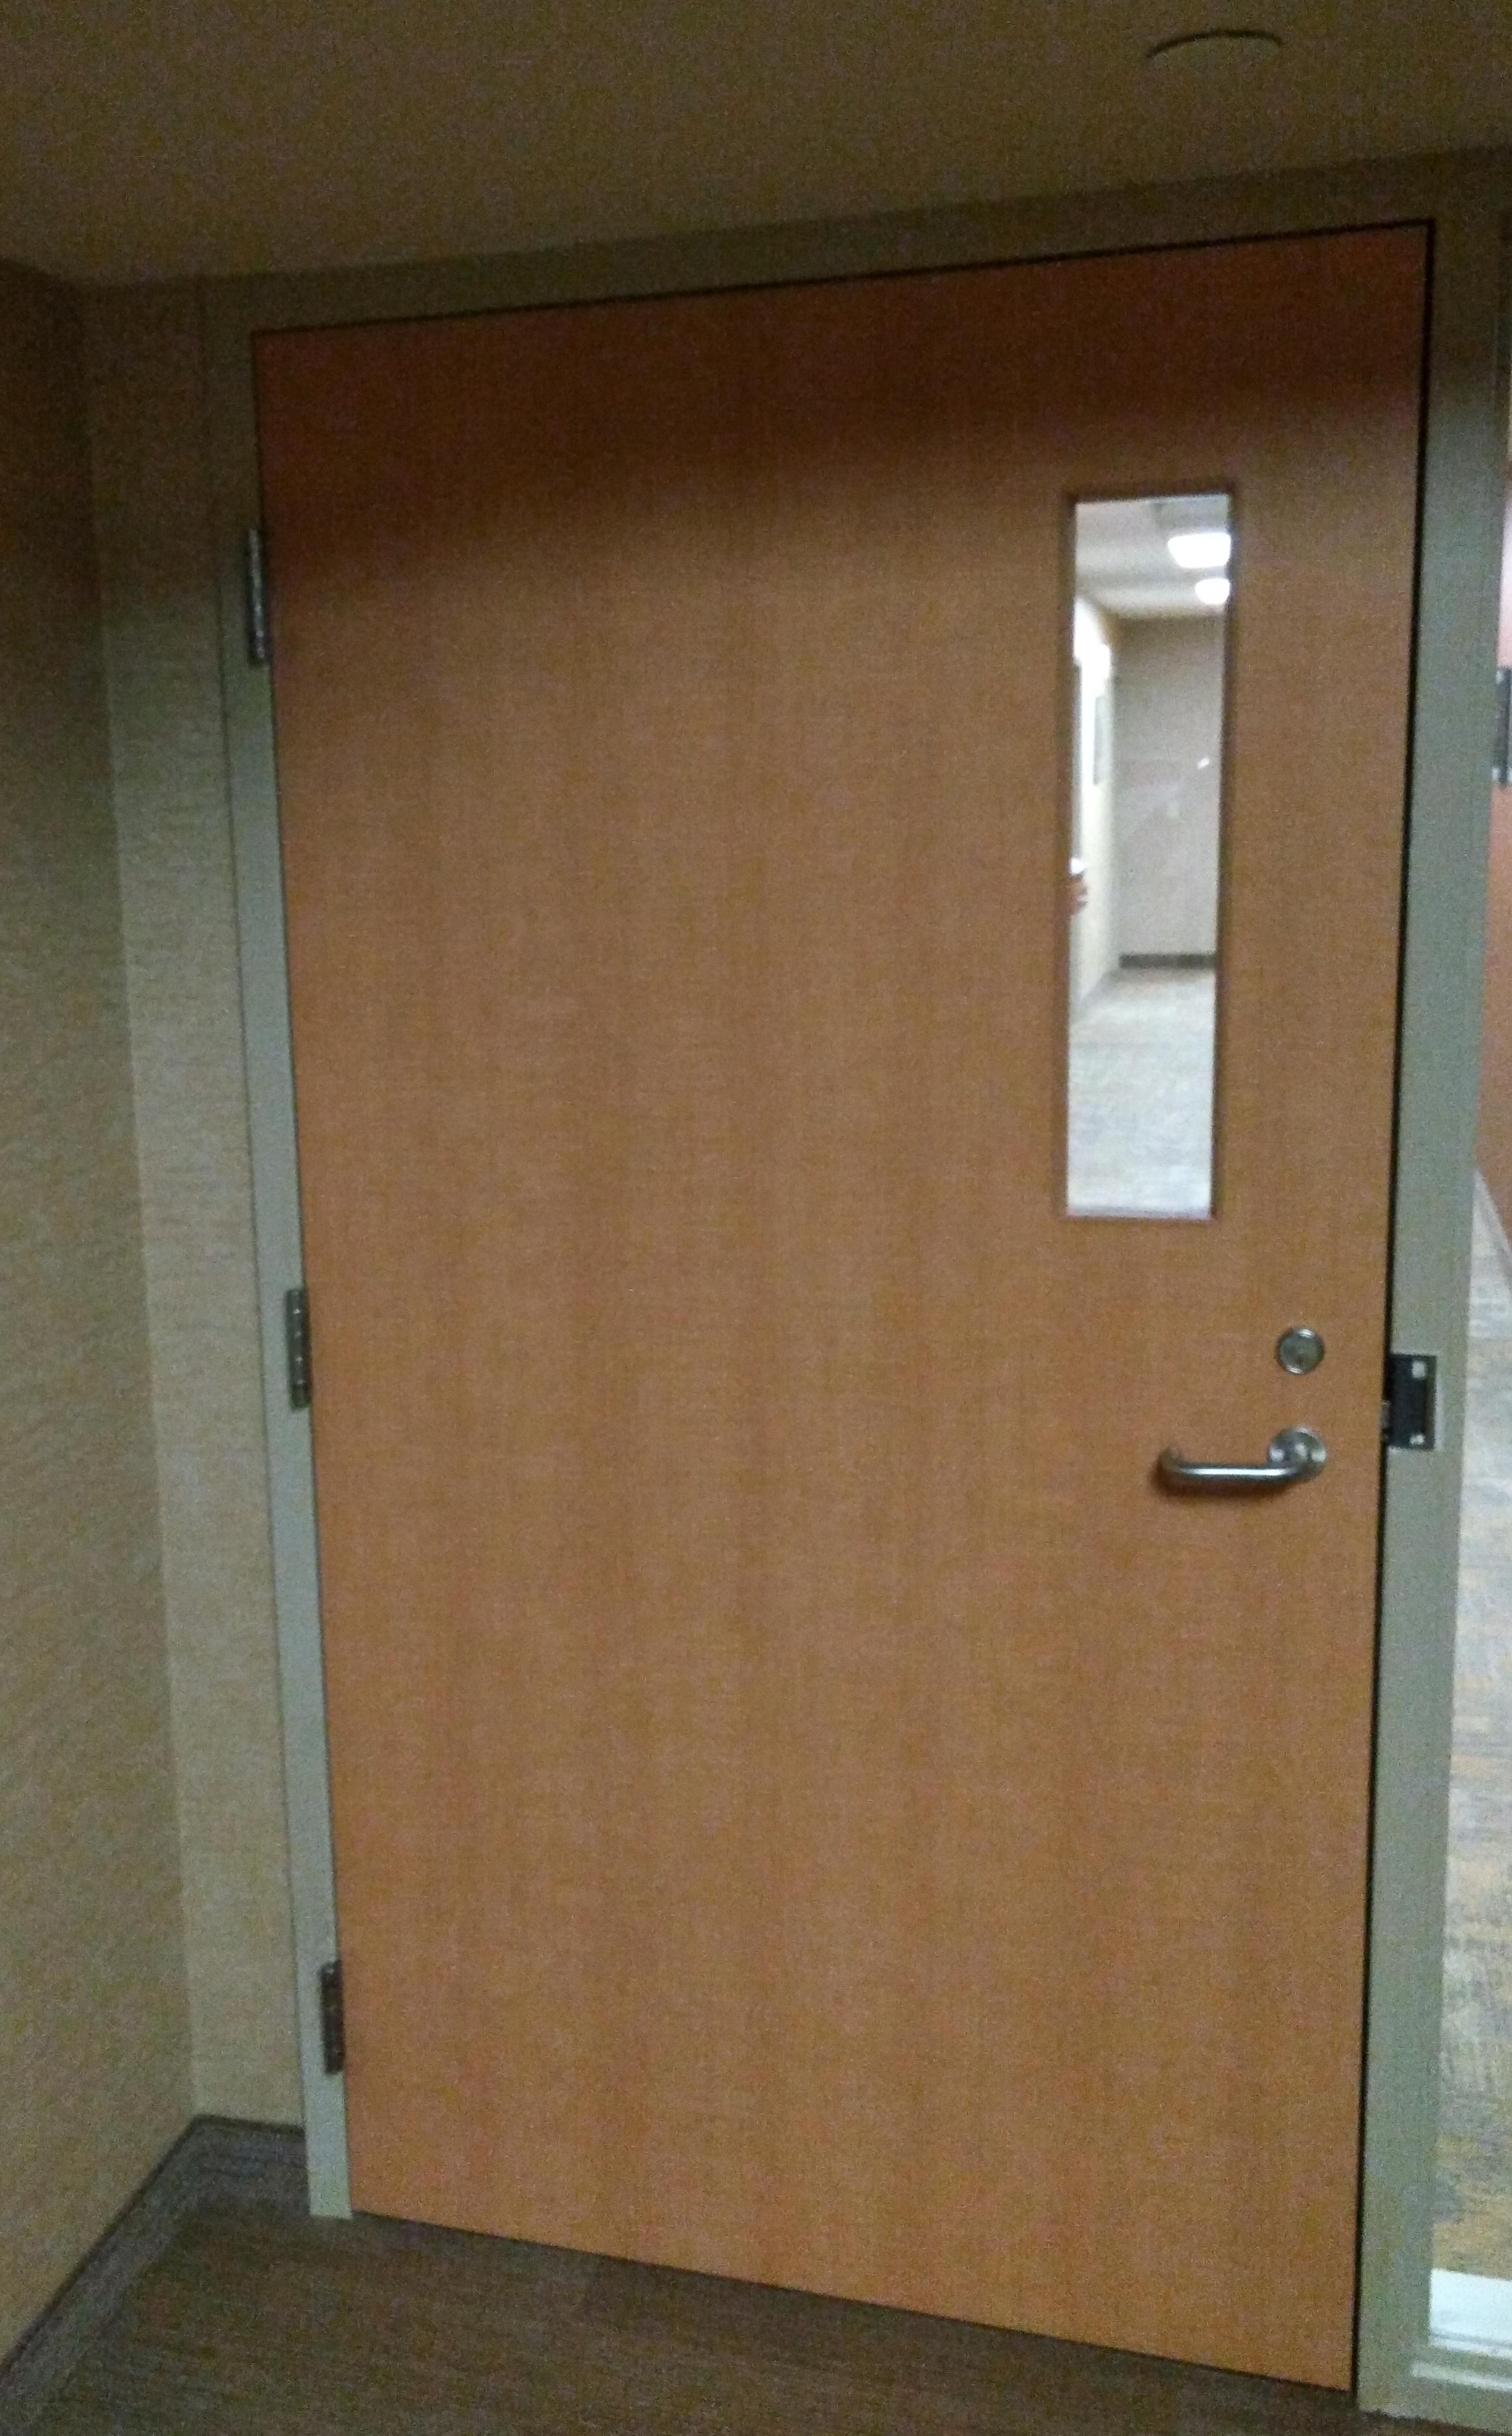door: (279, 256, 1437, 2375)
